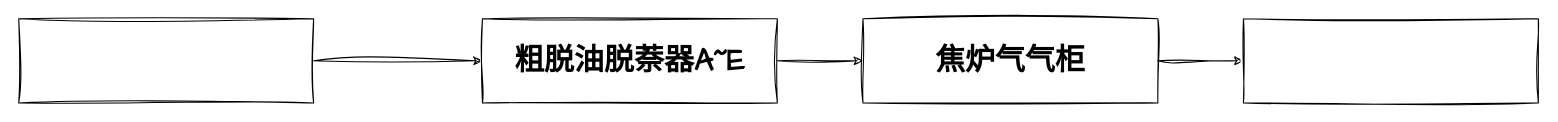
The diagram is 1558 pixels wide and 122 high, and some of its shapes have lost their labels. The box of each missing label's shape, as (x1, y1, x2, y2) in pixels:
焦炉气螺杆压缩机: (1242, 18, 1538, 103)
焦炉煤气来自化产: (18, 18, 314, 103)
